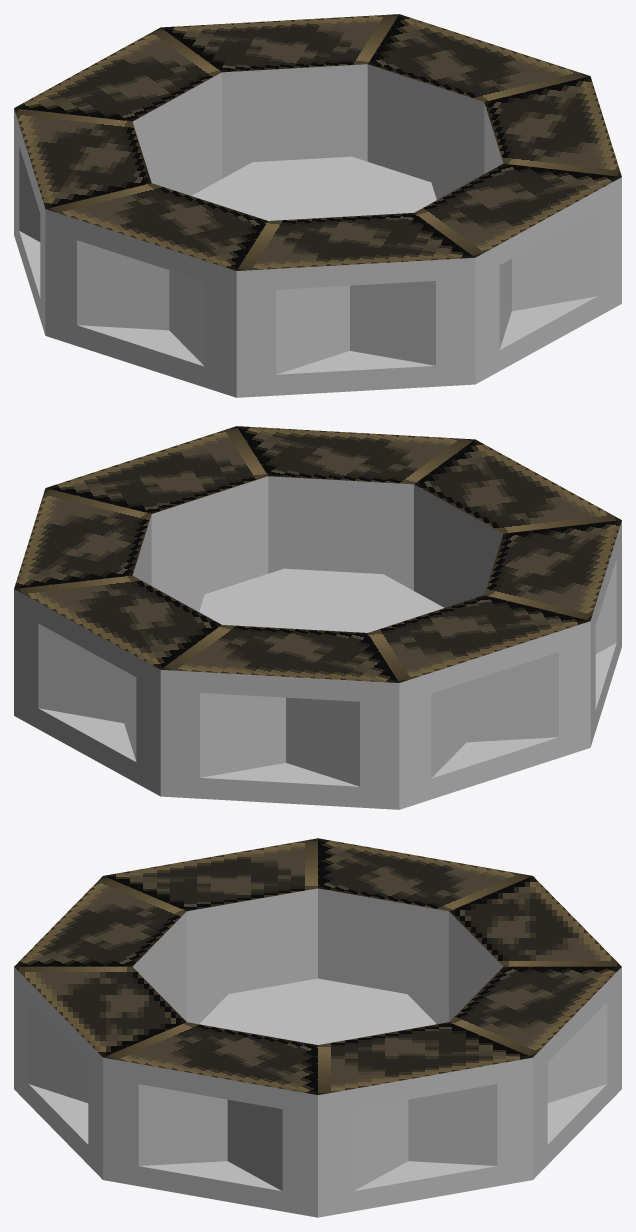
Rendered from waterwheel.obj.
3 renders of one model, top to bottom at view 1: azimuth 30°, elevation 25°; view 2: azimuth 150°, elevation 25°; view 3: azimuth 270°, elevation 25°, orthographic. The views are drawn at different scales.
Parts seen in each view (by area): view 1: Mesh13 Component_1_7 Model, Mesh15 Component_1_8 Model, Mesh1 Component_1_1 Model, Mesh7 Component_1_4 Model, Mesh5 Component_1_3 Model, Mesh11 Component_1_6 Model, Mesh9 Component_1_5 Model, Mesh3 Component_1_2 Model, Mesh12 Component_1_6 Model, Mesh6 Component_1_3 Model, Mesh8 Component_1_4 Model, Mesh4 Component_1_2 Model (+1 smaller); view 2: Mesh11 Component_1_6 Model, Mesh9 Component_1_5 Model, Mesh7 Component_1_4 Model, Mesh1 Component_1_1 Model, Mesh3 Component_1_2 Model, Mesh13 Component_1_7 Model, Mesh15 Component_1_8 Model, Mesh5 Component_1_3 Model, Mesh14 Component_1_7 Model, Mesh4 Component_1_2 Model, Mesh2 Component_1_1 Model, Mesh6 Component_1_3 Model (+1 smaller); view 3: Mesh3 Component_1_2 Model, Mesh5 Component_1_3 Model, Mesh9 Component_1_5 Model, Mesh15 Component_1_8 Model, Mesh1 Component_1_1 Model, Mesh7 Component_1_4 Model, Mesh11 Component_1_6 Model, Mesh13 Component_1_7 Model, Mesh10 Component_1_5 Model, Mesh16 Component_1_8 Model, Mesh12 Component_1_6 Model, Mesh14 Component_1_7 Model.
Boxes of the visible parts, box(x1,y1,x2,y2) form: Mesh13 Component_1_7 Model: box(236, 213, 475, 397); Mesh15 Component_1_8 Model: box(45, 183, 267, 397); Mesh1 Component_1_1 Model: box(414, 163, 621, 384); Mesh7 Component_1_4 Model: box(161, 14, 399, 178); Mesh5 Component_1_3 Model: box(367, 14, 589, 199); Mesh11 Component_1_6 Model: box(14, 27, 221, 195); Mesh9 Component_1_5 Model: box(14, 108, 151, 334); Mesh3 Component_1_2 Model: box(484, 76, 621, 176); Mesh12 Component_1_6 Model: box(192, 162, 317, 209); Mesh6 Component_1_3 Model: box(318, 157, 430, 209); Mesh8 Component_1_4 Model: box(253, 156, 351, 209); Mesh4 Component_1_2 Model: box(318, 182, 436, 215); Mesh11 Component_1_6 Model: box(160, 625, 399, 809); Mesh9 Component_1_5 Model: box(368, 595, 590, 809); Mesh7 Component_1_4 Model: box(14, 575, 221, 796); Mesh1 Component_1_1 Model: box(236, 426, 474, 590); Mesh3 Component_1_2 Model: box(46, 426, 268, 611); Mesh13 Component_1_7 Model: box(414, 439, 621, 607); Mesh15 Component_1_8 Model: box(484, 520, 621, 746); Mesh5 Component_1_3 Model: box(14, 488, 151, 588); Mesh14 Component_1_7 Model: box(318, 574, 443, 621); Mesh4 Component_1_2 Model: box(205, 569, 317, 621); Mesh2 Component_1_1 Model: box(284, 568, 382, 621); Mesh6 Component_1_3 Model: box(199, 594, 317, 627); Mesh3 Component_1_2 Model: box(103, 1022, 317, 1217); Mesh5 Component_1_3 Model: box(318, 1022, 532, 1217); Mesh9 Component_1_5 Model: box(318, 838, 532, 1024); Mesh15 Component_1_8 Model: box(103, 838, 317, 1024); Mesh1 Component_1_1 Model: box(14, 966, 186, 1179); Mesh7 Component_1_4 Model: box(449, 966, 621, 1179); Mesh11 Component_1_6 Model: box(449, 876, 621, 1021); Mesh13 Component_1_7 Model: box(14, 876, 186, 1021); Mesh10 Component_1_5 Model: box(318, 978, 406, 1031); Mesh16 Component_1_8 Model: box(229, 978, 317, 1031); Mesh12 Component_1_6 Model: box(318, 994, 436, 1031); Mesh14 Component_1_7 Model: box(199, 994, 317, 1031).
Bounding box in the file's own units: 14.35 × 3.19 × 14.35.
